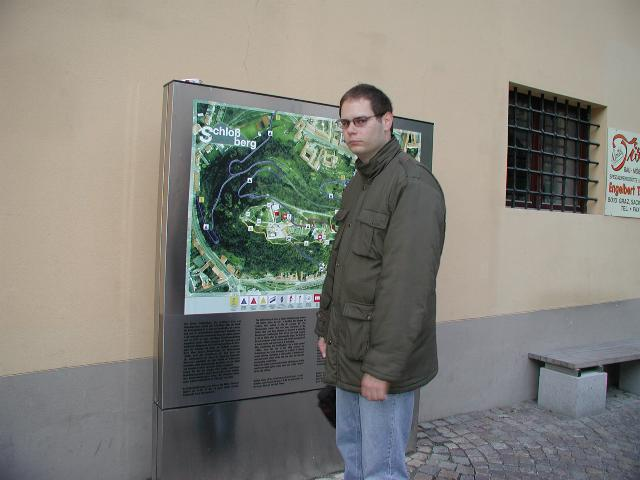Person: (309, 81, 445, 479)
